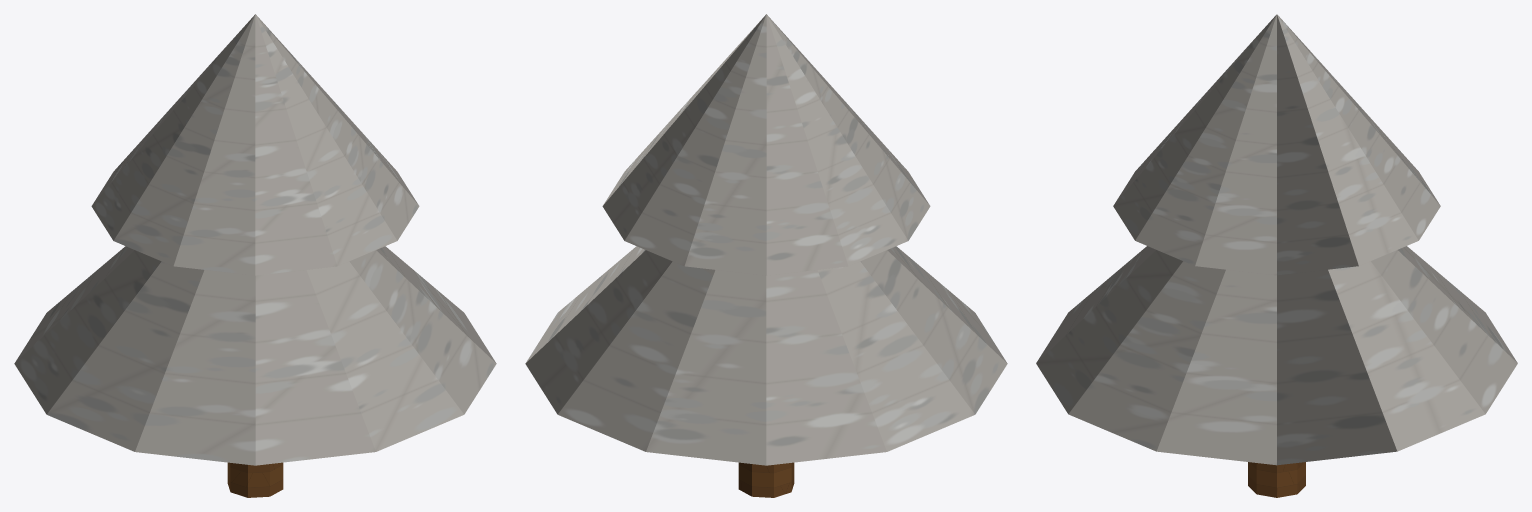
Rendered from tree.obj.
3 views of the same model, side by side, from view 1: azimuth 30°, elevation 25°; view 2: azimuth 150°, elevation 25°; view 3: azimuth 270°, elevation 25° (orthographic).
Size of the model in its own units: 5 by 5.4 by 5.
Materials: 2 (2 with a texture image).
